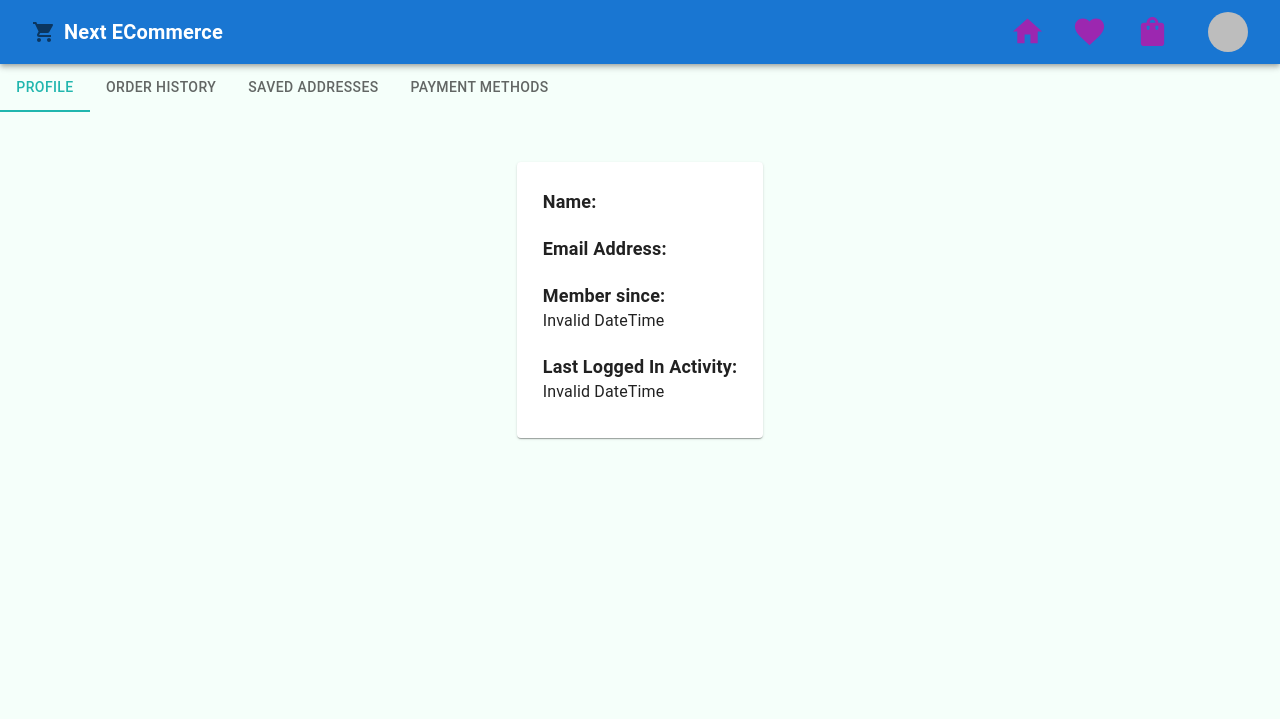
Test: Account › test for add address errors
What coordinates should you click on to do the following:
click the tab "Saved Addresses"
I would click on:
 (313, 88)
Its box is [232,64,395,112].
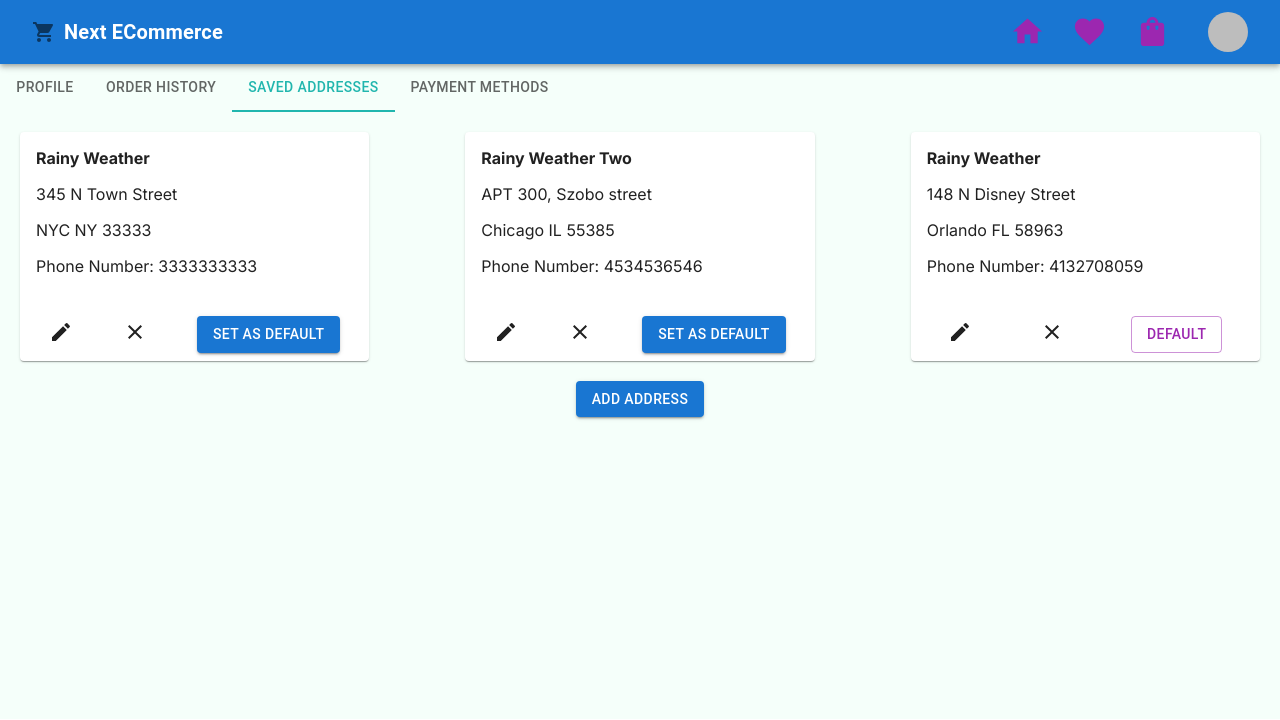
What coordinates should you click on to do the following:
click the button "Add Address"
I would click on:
 (640, 399)
Its box is [576,380,704,417].
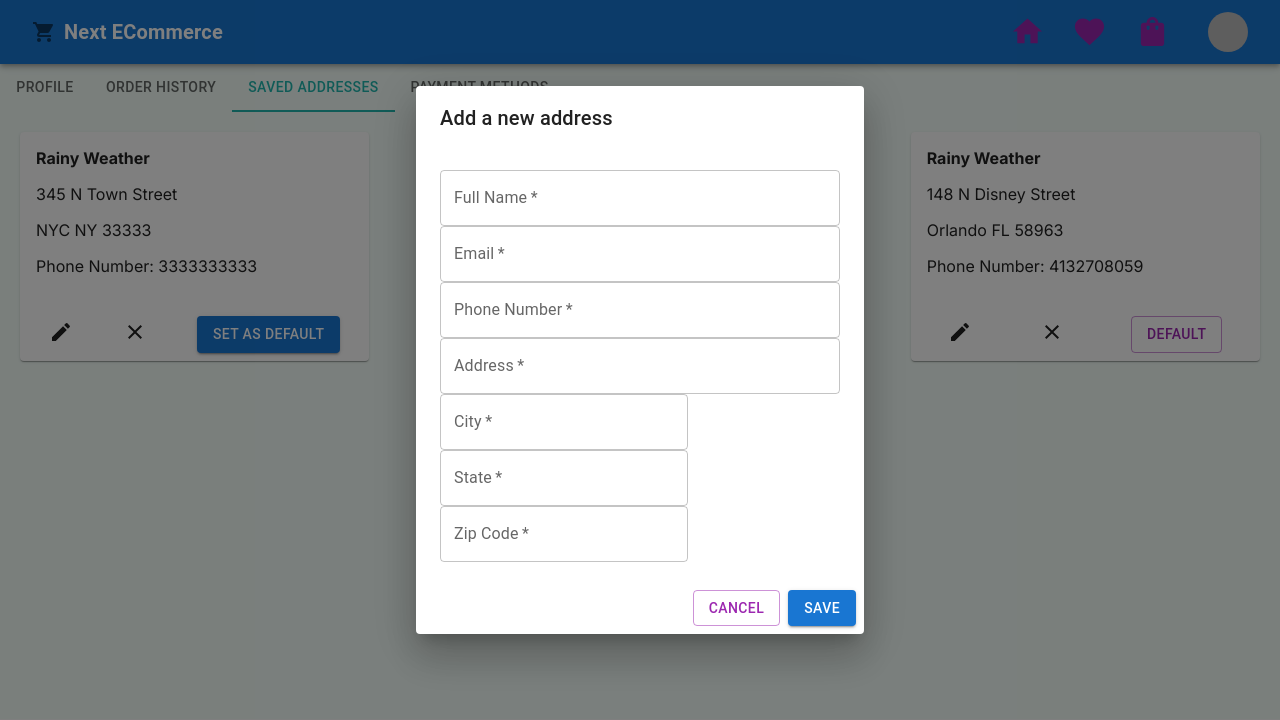
What coordinates should you click on to do the following:
click the button "Save"
I would click on:
 (822, 608)
Its box is [788,590,856,626].
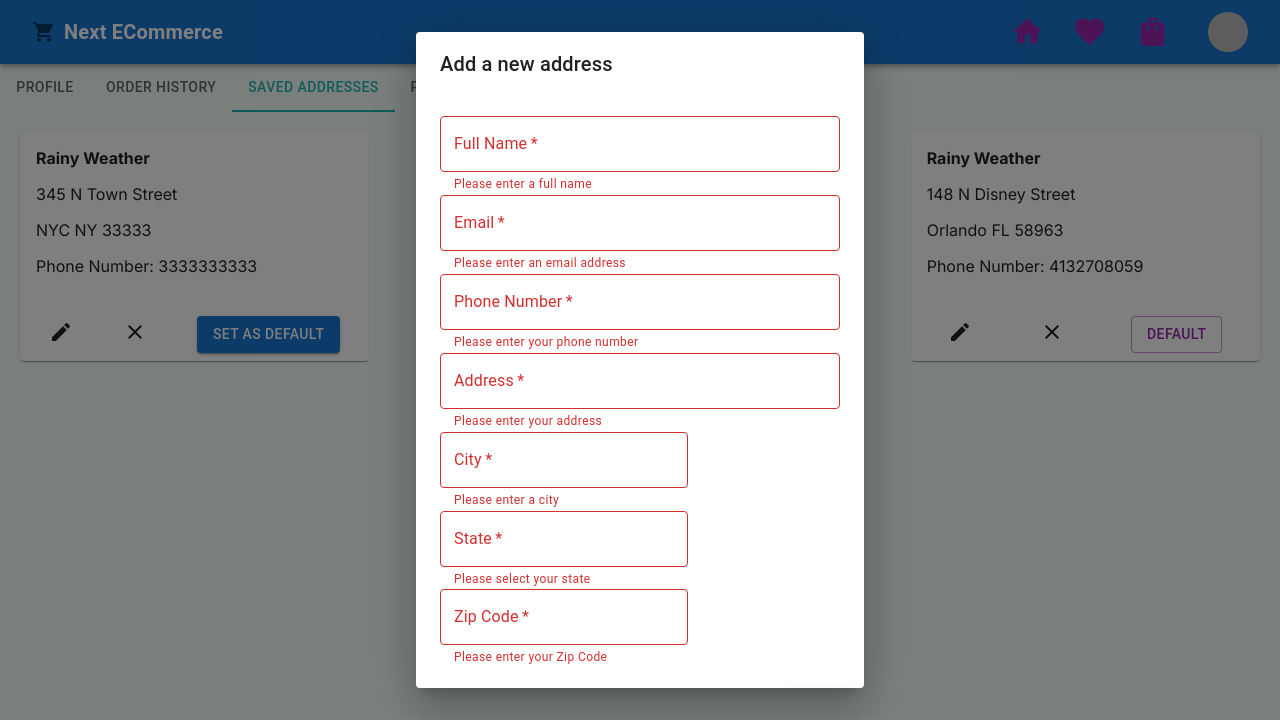
Expected: the text "Please enter a full name" is shown, [454,177,592,191]
